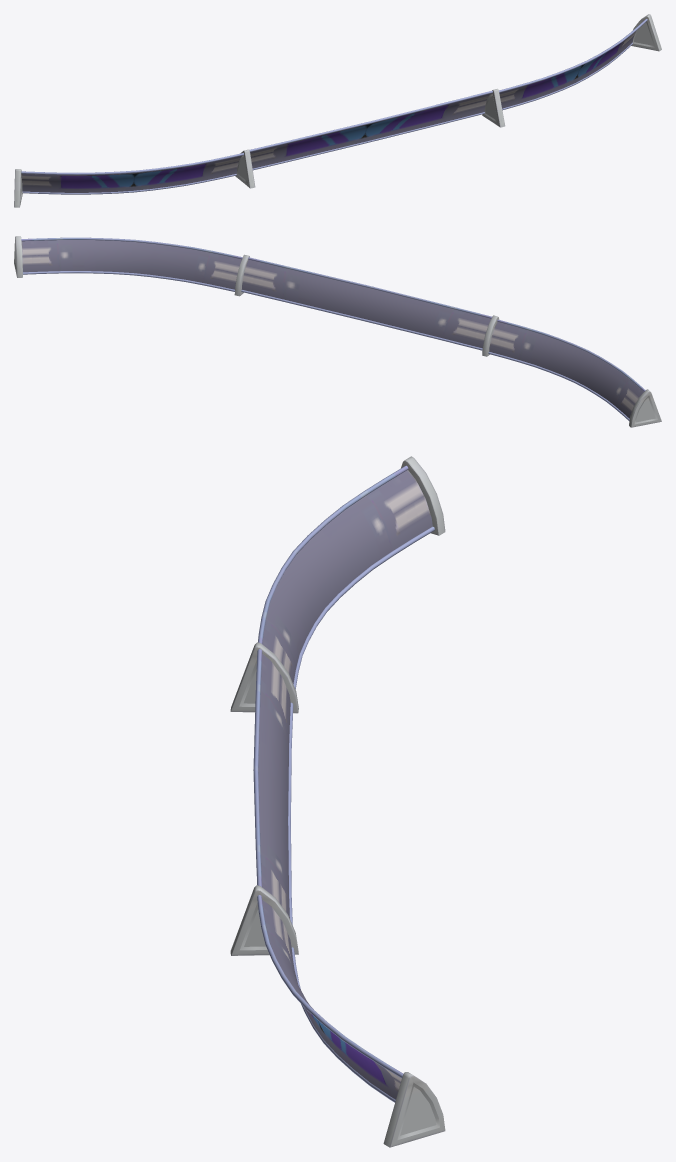
Rendered from pref_sm_beach_winter_crowd_barrierT_02_lv3.fbx.
3 renders of one model, top to bottom at view 1: azimuth 30°, elevation 25°; view 2: azimuth 150°, elevation 25°; view 3: azimuth 270°, elevation 25°, orthographic. The views are drawn at different scales.
Visible parts, largest first — view 1: pref_sm_beach_winter_crowd_barrierT_02_lv3; view 2: pref_sm_beach_winter_crowd_barrierT_02_lv3; view 3: pref_sm_beach_winter_crowd_barrierT_02_lv3.
Part boxes in pixels (x1=…): pref_sm_beach_winter_crowd_barrierT_02_lv3: x1=14, y1=14, x2=661, y2=207; pref_sm_beach_winter_crowd_barrierT_02_lv3: x1=14, y1=236, x2=661, y2=427; pref_sm_beach_winter_crowd_barrierT_02_lv3: x1=230, y1=456, x2=445, y2=1147.
Bounding box in the file's own units: 25.4 × 1.23 × 3.65.
